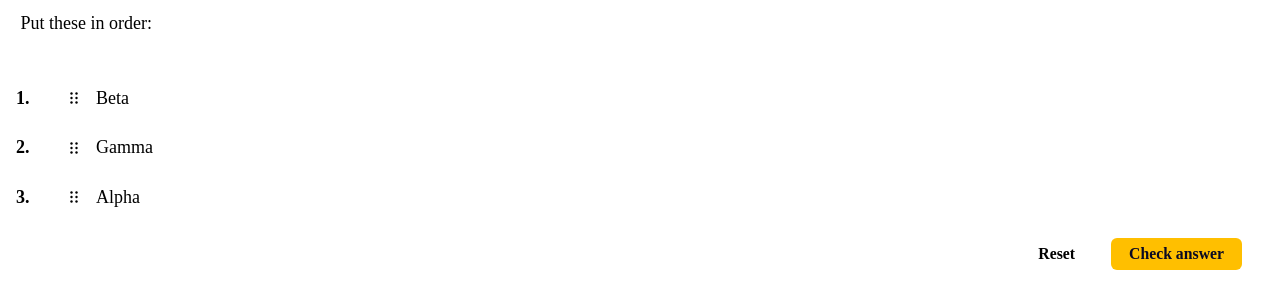
Test case: Order › shows incorrect feedback for the wrong order
Click the button "Check answer": (1177, 254) [1111, 238, 1242, 270]
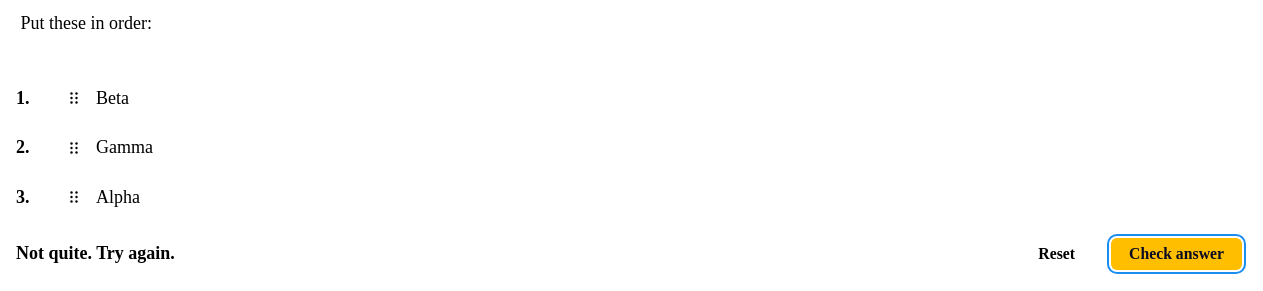
Check: the text "Not quite. Try again." is shown, box [16, 243, 175, 263]
